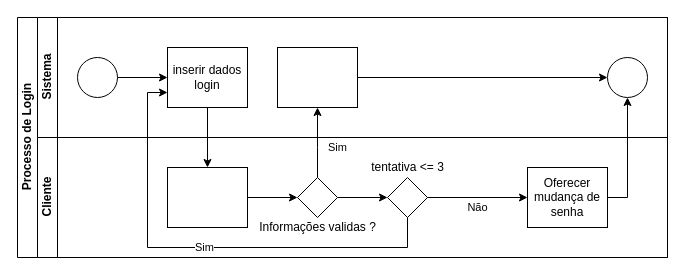
Some shapes in this 685 by 275 pixel diagram are drawn without their labels. The shapes that lost their labels are listed below. From the top down, each one's centre as x and y in pixels, then its label:
the point at 317,77: Acessar aplicação
the point at 207,197: Verificar Banco de dados
